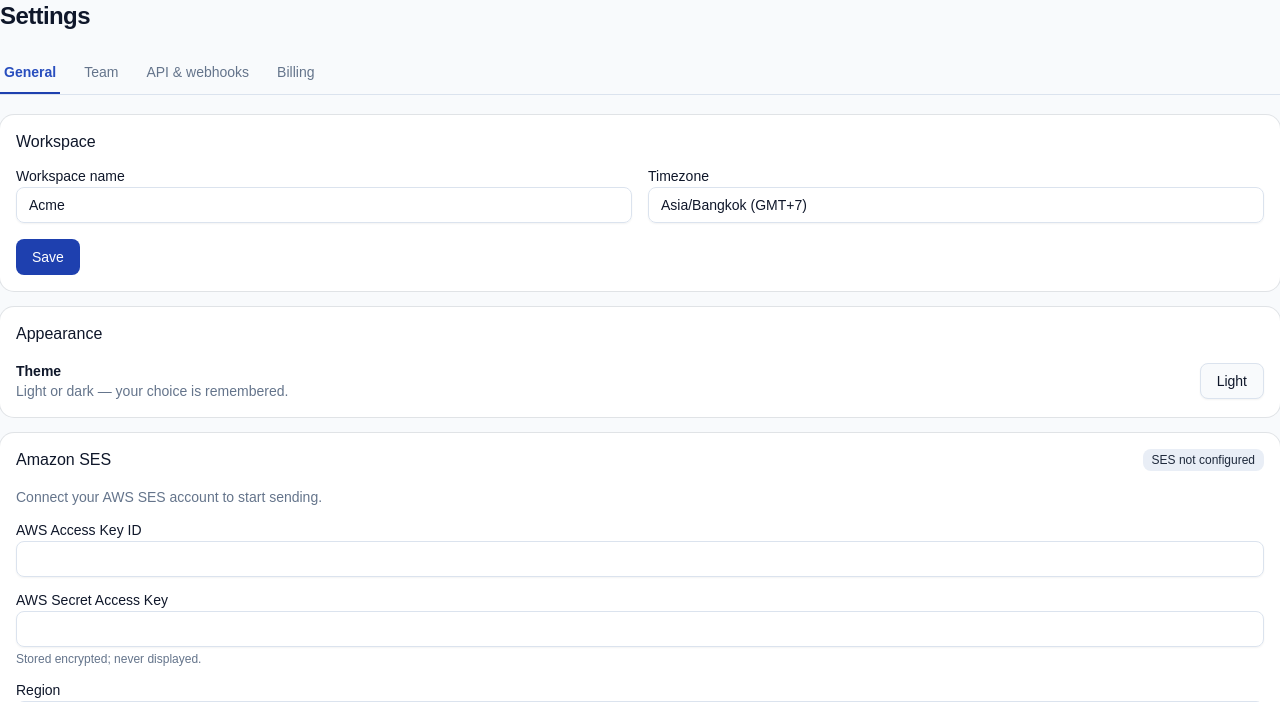
Test: Team tab lists members and invites a member (owner)
Click the button "Team" at [101, 73], box [80,52,122,94]
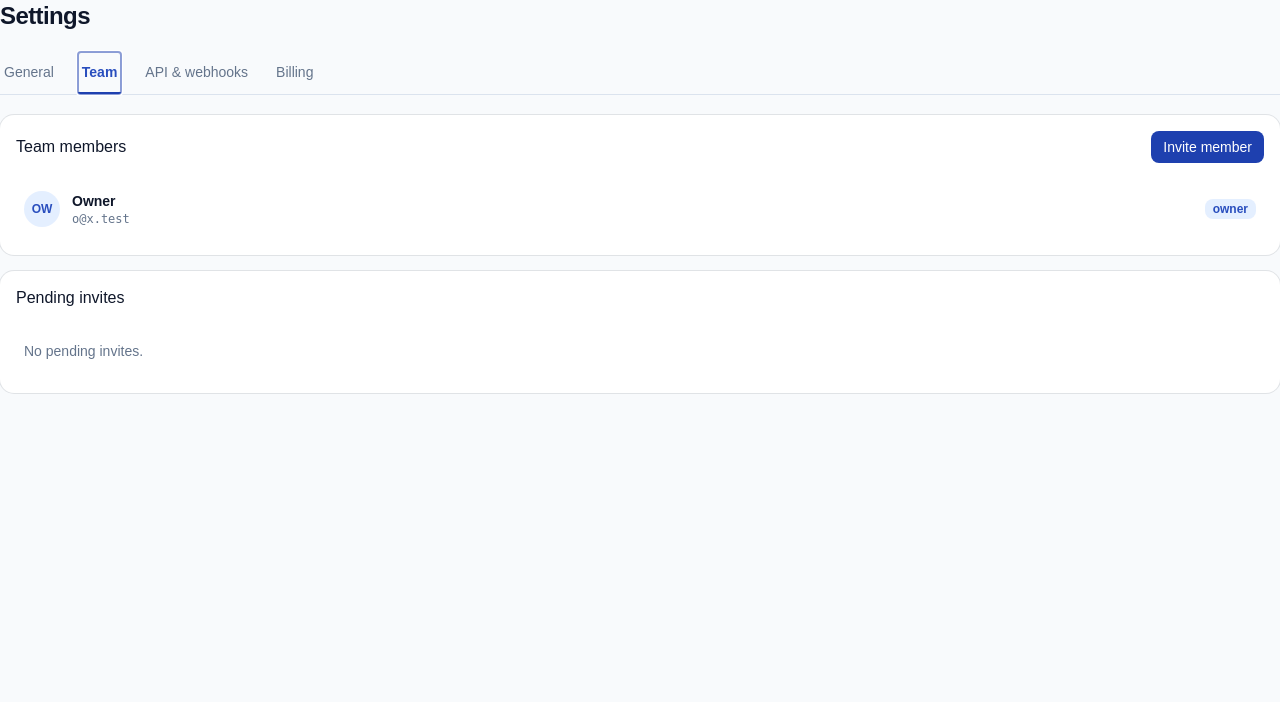
Now the text "o@x.test" is shown, box [72,212,130,226]
Click the button "Invite member" at [1208, 147], box [1151,131,1264,163]
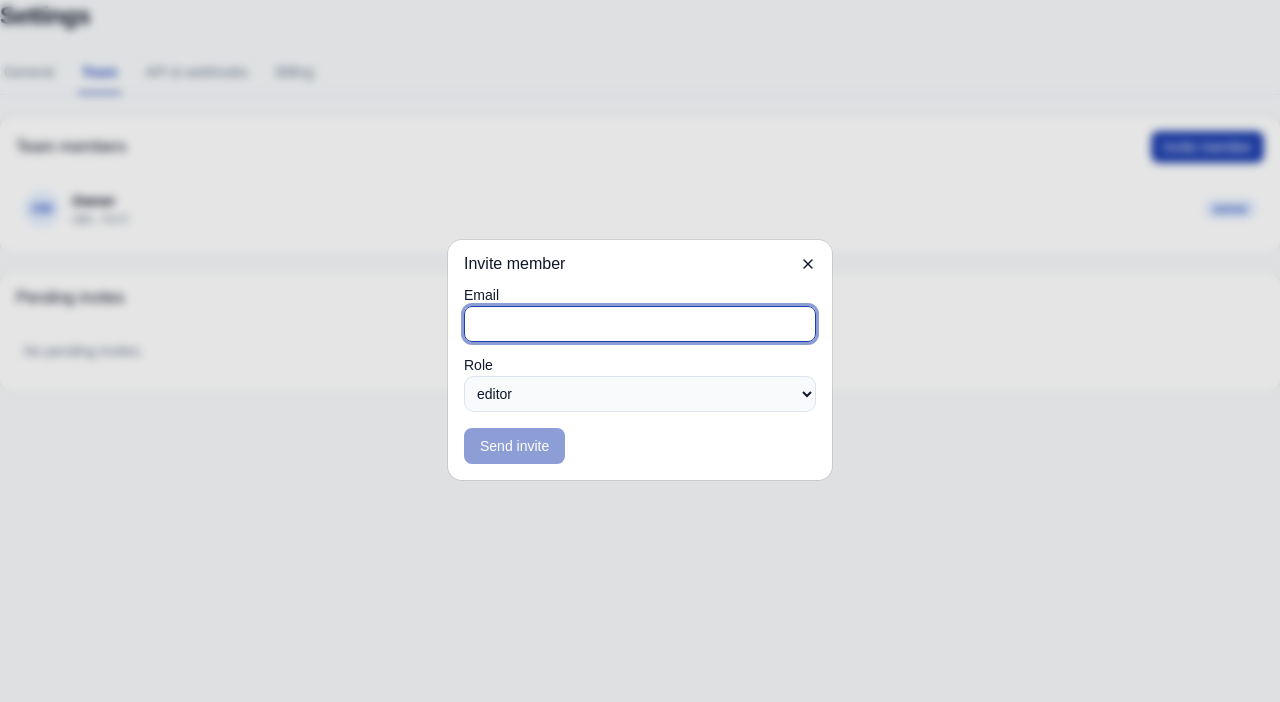
Type "new@x.test" into the field labelled "Email" at [640, 324], box [464,306,816,342]
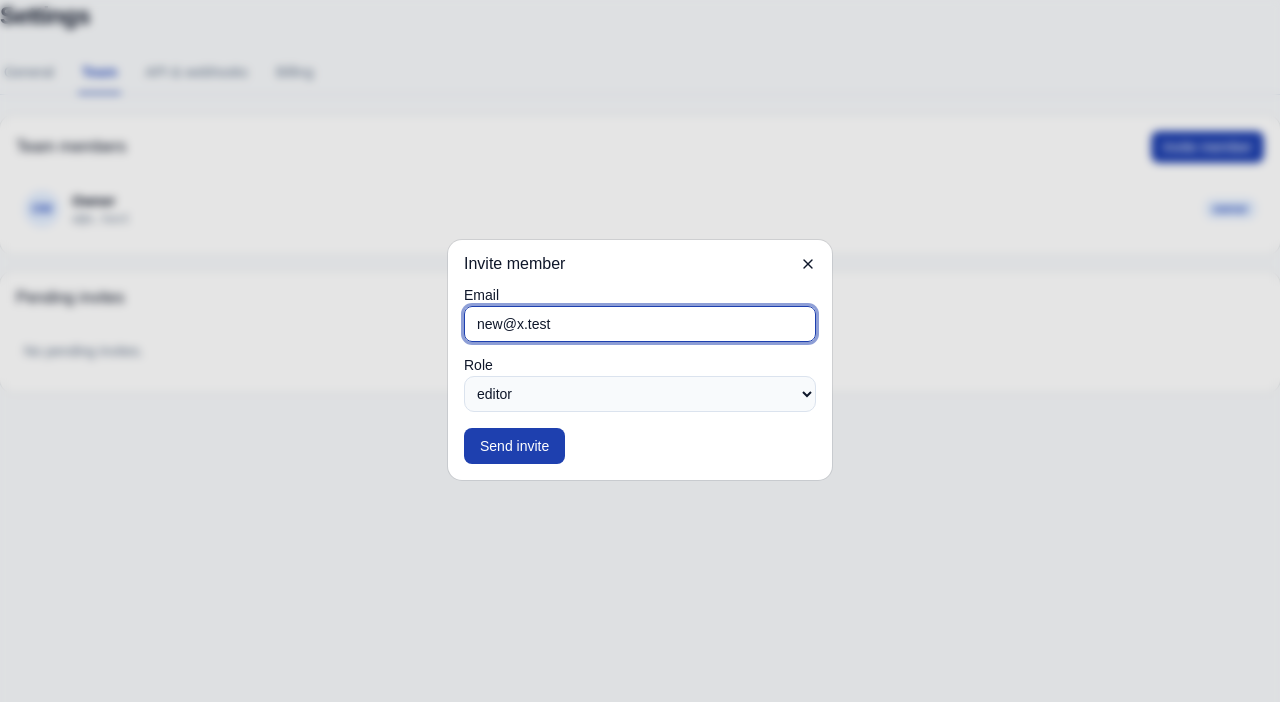
Click the button "Send invite" at [515, 446], box [464,428,565,464]
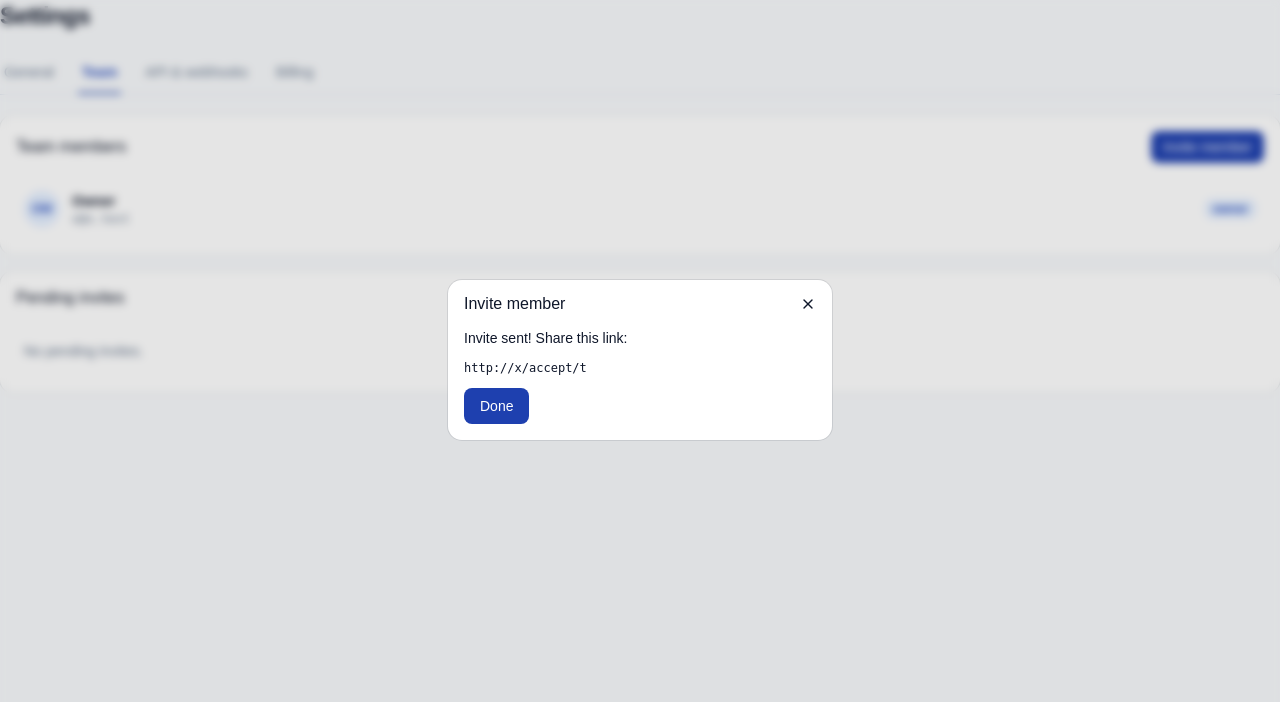
Now the text "http://x/accept/t" is shown, box [464,361,587,375]
